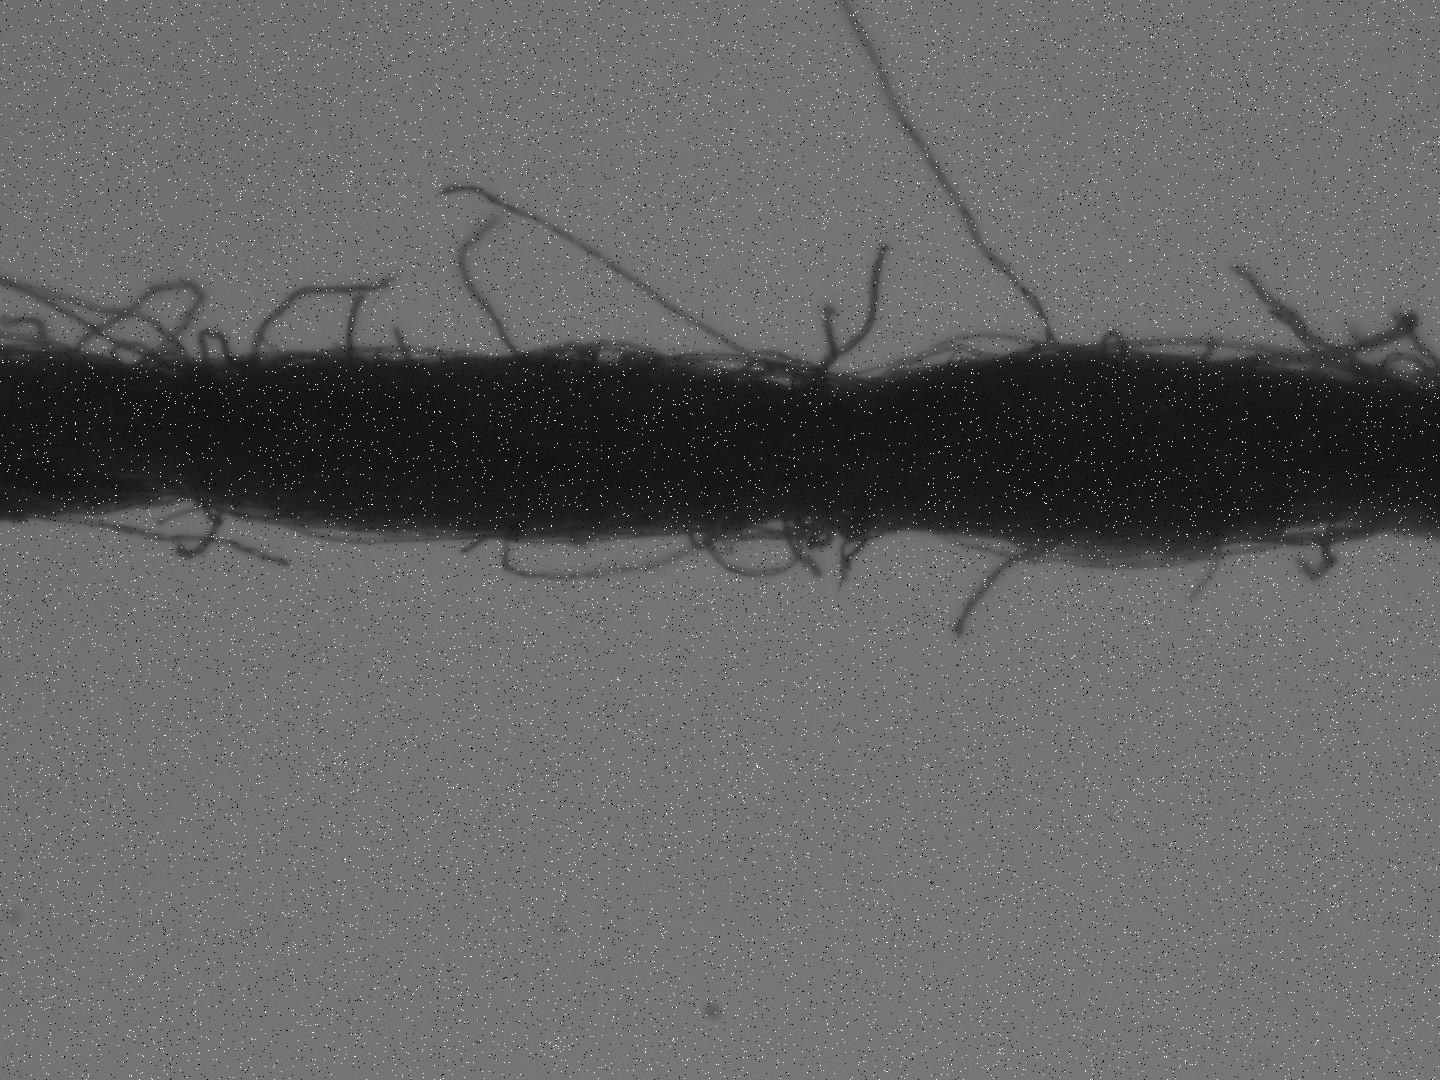loop_fiber: (502, 518, 736, 580), (662, 349, 878, 391), (703, 505, 805, 577), (70, 307, 193, 365), (1239, 355, 1397, 387), (527, 339, 666, 373), (880, 341, 996, 378), (570, 335, 689, 370), (1285, 521, 1394, 543), (112, 338, 177, 372), (1365, 352, 1435, 380), (194, 327, 238, 365), (1005, 531, 1066, 552), (1100, 326, 1134, 353)
protruding_fiber: (435, 182, 778, 365), (819, 237, 890, 376), (951, 540, 1041, 635), (463, 216, 517, 355), (338, 296, 363, 363)
